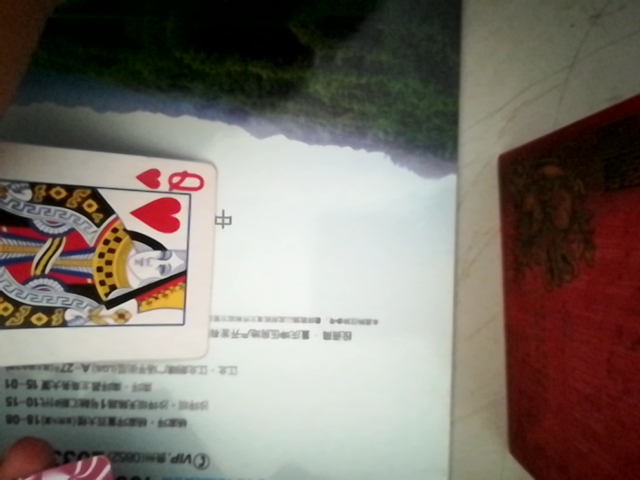hx q: (0, 146, 214, 369)
